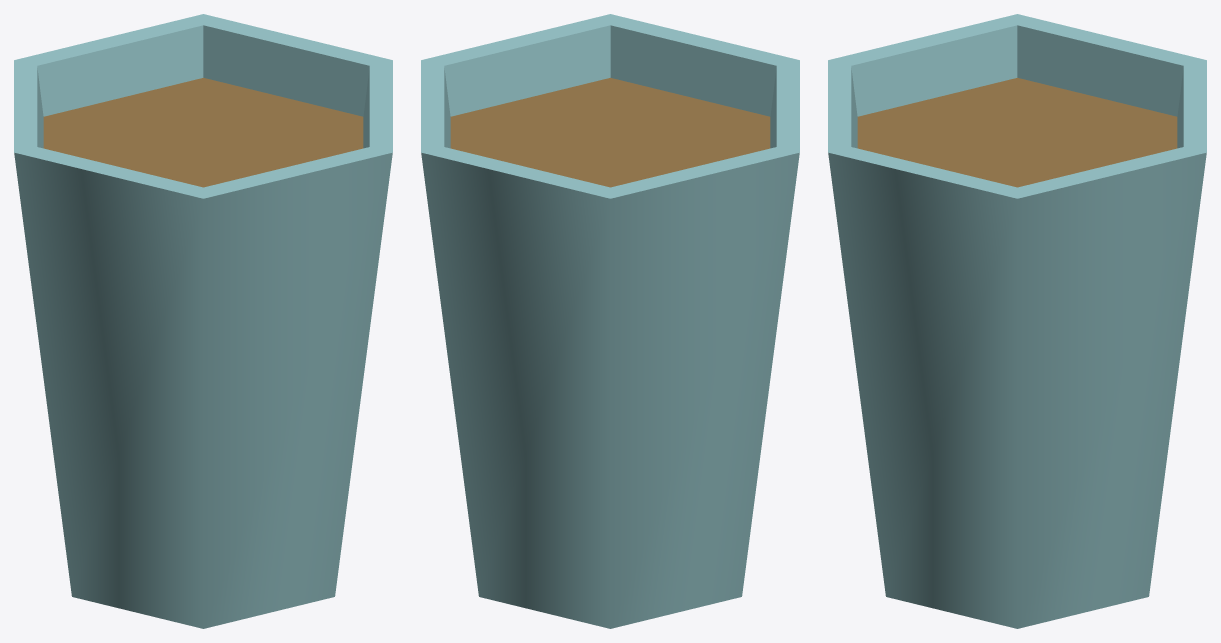
File: Itr_Obj_Flowerpot2_Base_06.FBX
3 renders of one model, left to right at view 1: azimuth 30°, elevation 25°; view 2: azimuth 150°, elevation 25°; view 3: azimuth 270°, elevation 25°, orthographic.
Visible parts, largest first — view 1: Itr_Obj_Flowerpot2_Base_06; view 2: Itr_Obj_Flowerpot2_Base_06; view 3: Itr_Obj_Flowerpot2_Base_06.
Boxes of the visible parts, bbox=[...] form: Itr_Obj_Flowerpot2_Base_06: bbox=[14, 14, 392, 628]; Itr_Obj_Flowerpot2_Base_06: bbox=[421, 14, 799, 628]; Itr_Obj_Flowerpot2_Base_06: bbox=[828, 14, 1206, 628].
Bounding box in the file's own units: 24 × 27.76 × 20.78.
